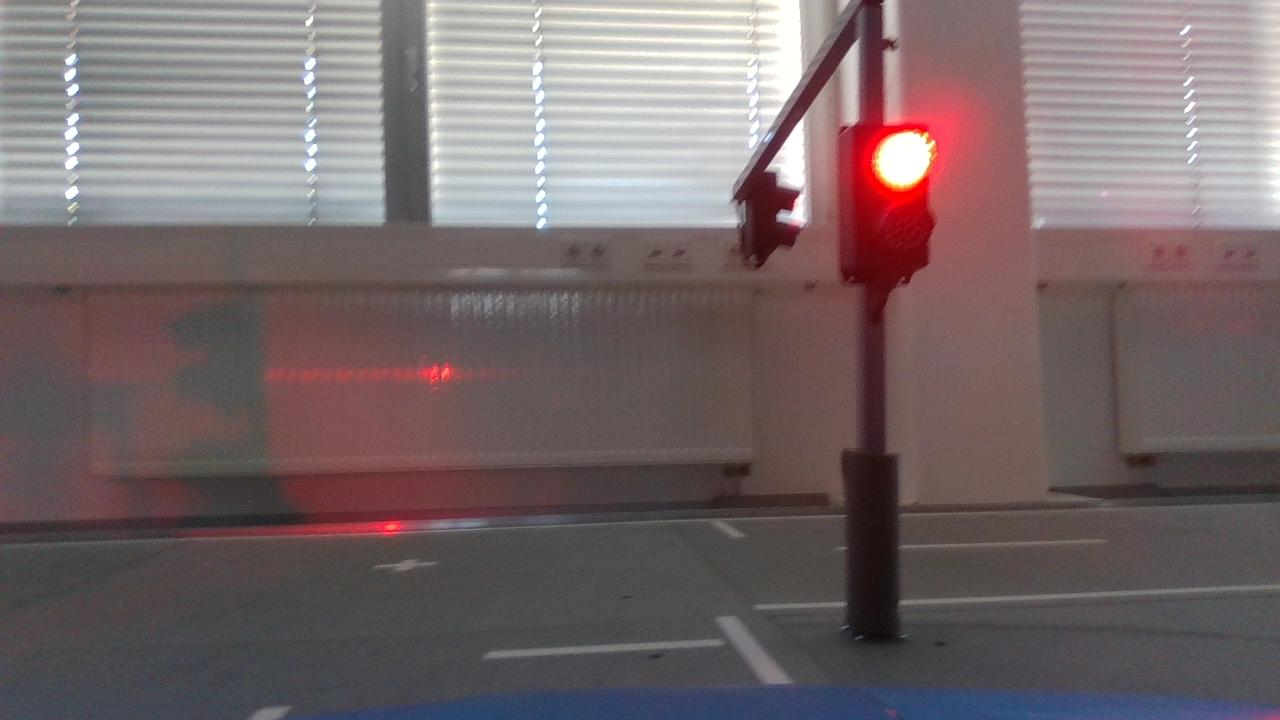traffic_light_red: (824, 118, 963, 297)
